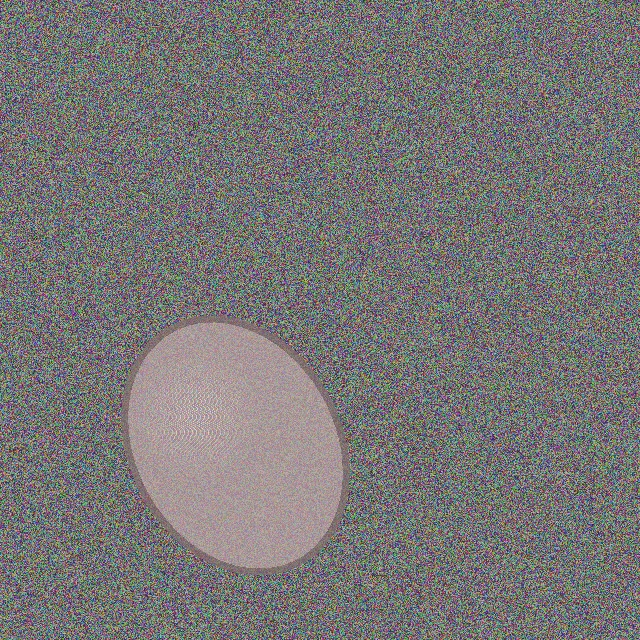lens: (125, 319, 345, 571)
